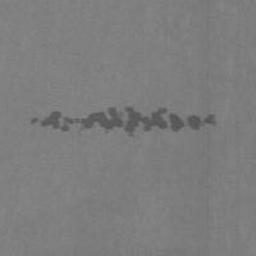Oil spot: (28, 105, 220, 138)
